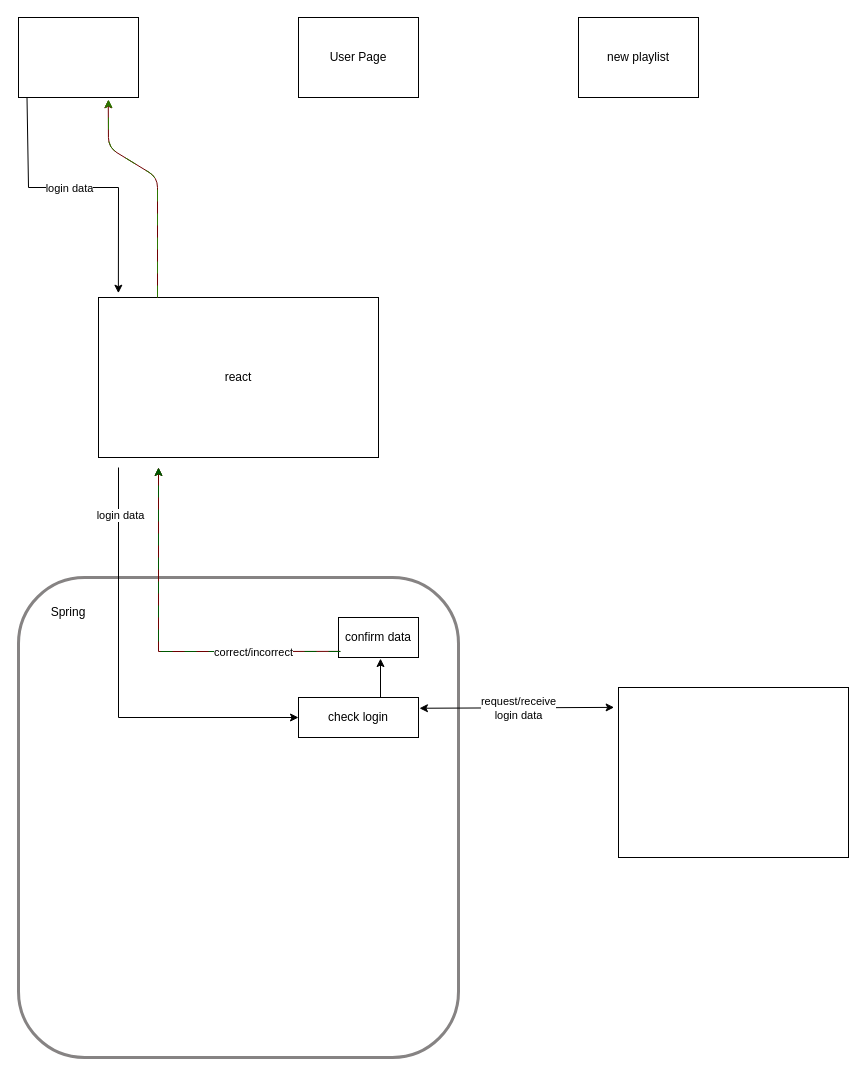
Image size: 866x1076. Some labels were removed from this diagram. The shapes that lost their labels are listed below. From the top down, each one's centre as x and y in pixels, then its label:
At (x=78, y=57): "login".
At (x=733, y=772): "MySQL".
